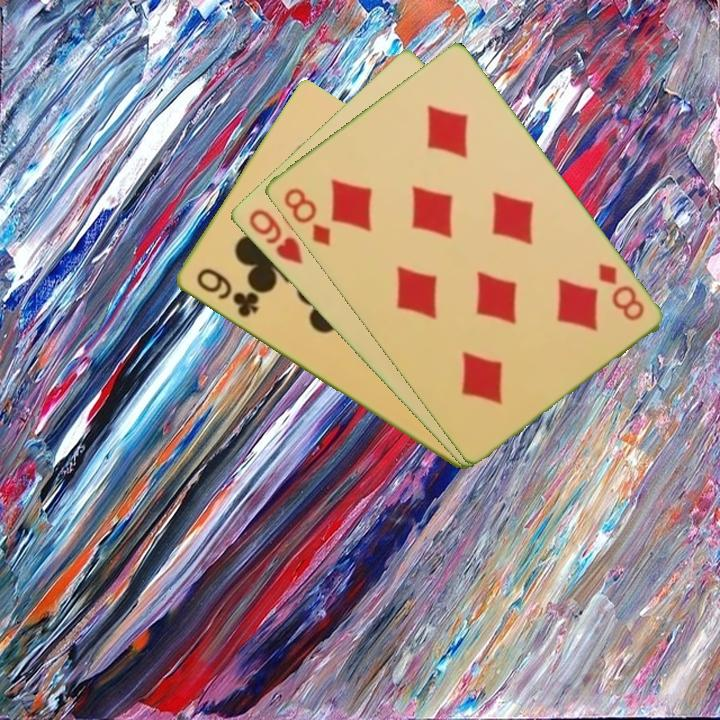8d: (279, 184, 333, 249), (594, 259, 647, 324)
9c: (192, 264, 261, 321)
9h: (244, 205, 305, 267)
